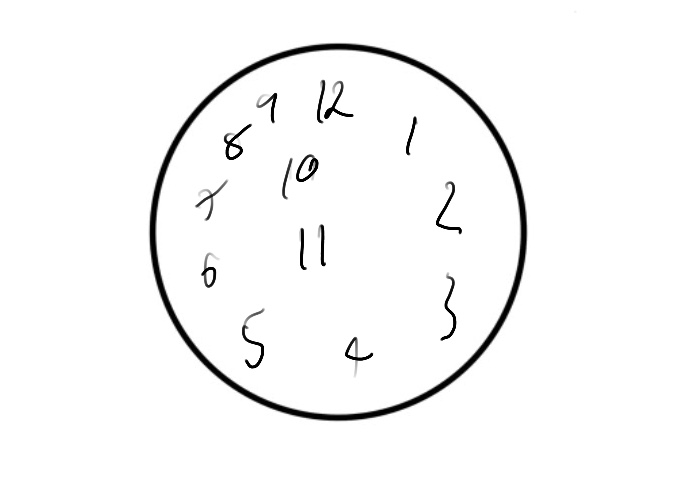eight: (217, 121, 256, 162)
eleven: (292, 216, 334, 277)
five: (238, 303, 267, 373)
four: (336, 327, 380, 385)
nine: (254, 85, 281, 126)
one: (400, 108, 420, 162)
seven: (187, 176, 228, 227)
six: (195, 245, 230, 297)
ten: (282, 147, 321, 197)
three: (432, 267, 468, 347)
twelve: (314, 70, 361, 131)
two: (433, 176, 465, 242)
